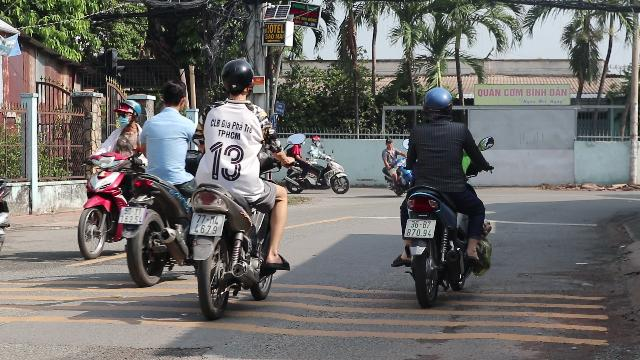helmet: (218, 57, 256, 100), (422, 86, 454, 120), (114, 101, 134, 127)
licenseplate: (190, 213, 223, 235), (405, 219, 435, 237), (120, 206, 144, 224)
motorcyclist: (187, 56, 293, 316), (388, 83, 496, 299), (120, 81, 204, 287), (73, 94, 141, 258)
nohelmet: (156, 81, 188, 113)
